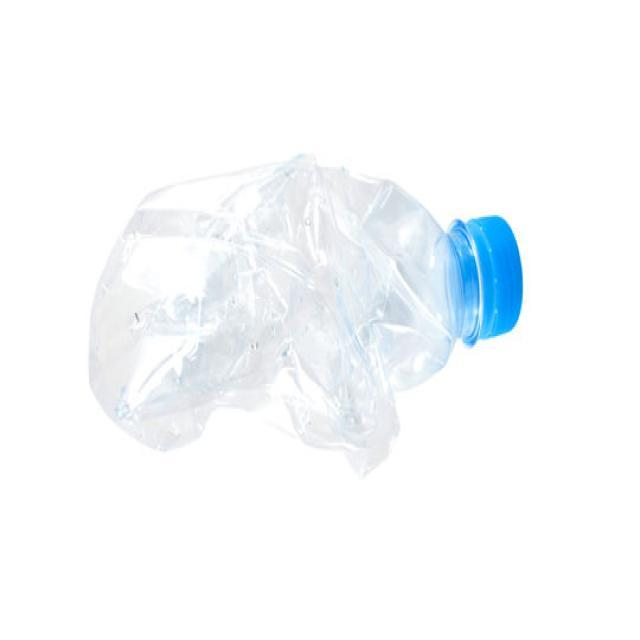Plastic: (89, 156, 524, 474)
